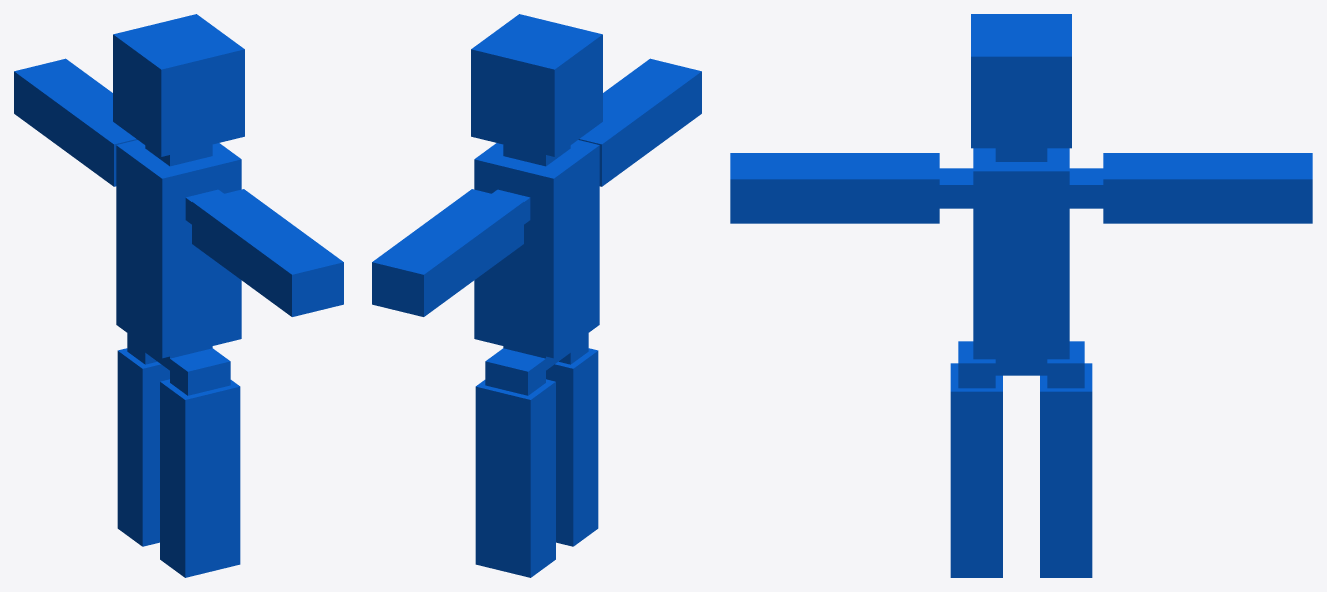
The model's file is First.fbx.
3 renders of one model, left to right at view 1: azimuth 30°, elevation 25°; view 2: azimuth 150°, elevation 25°; view 3: azimuth 270°, elevation 25°, orthographic. The views are drawn at different scales.
Visible parts, largest first — view 1: Cube; view 2: Cube; view 3: Cube.
Boxes of the visible parts, x1,y1,x2,y2 form: Cube: [14, 14, 343, 577]; Cube: [372, 14, 701, 577]; Cube: [730, 14, 1312, 577].
Size of the model in its own units: 200 by 1155 by 1153.
